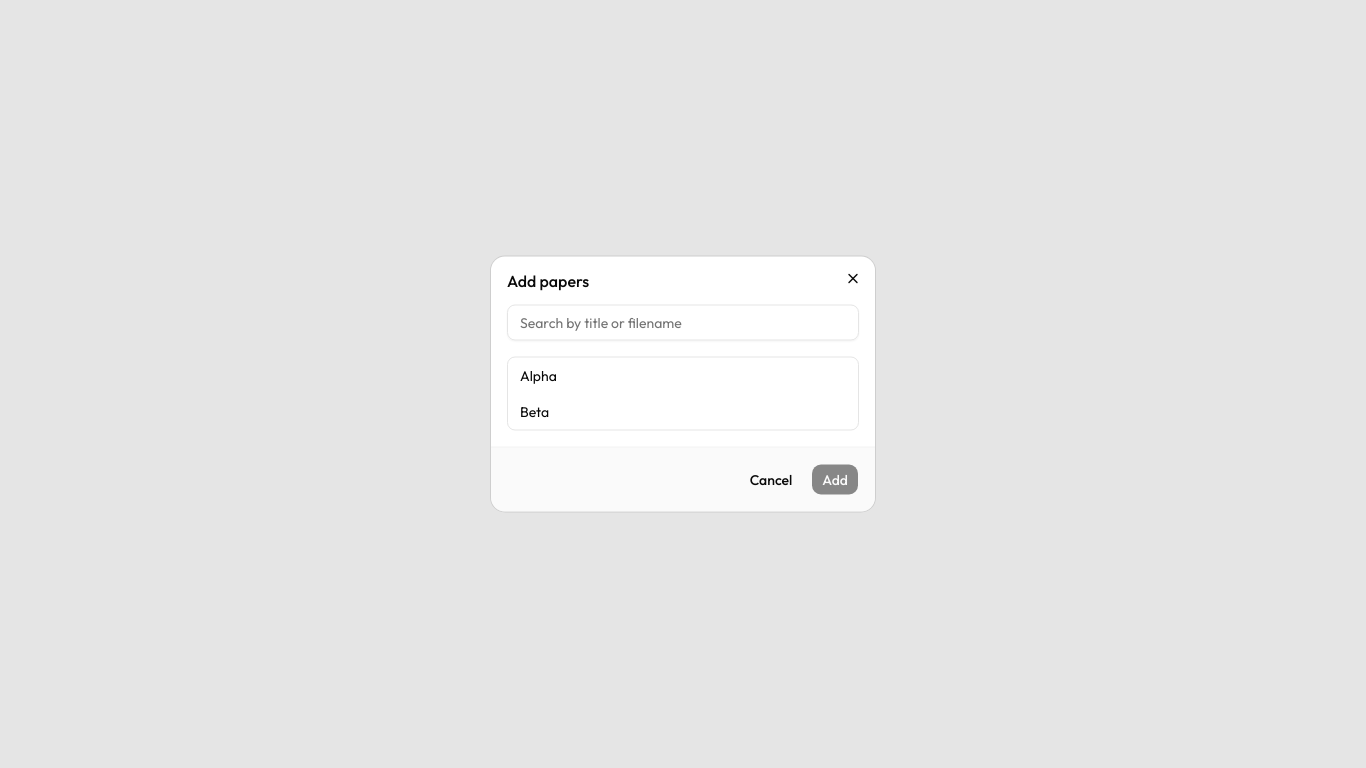
Test: PaperPickerDialog › filters by search input
Expected: the text "Alpha" is shown, [520, 366, 557, 386]
Type "bet" into the field named "search papers".
click(683, 322); type("bet")  # box [507, 304, 859, 340]
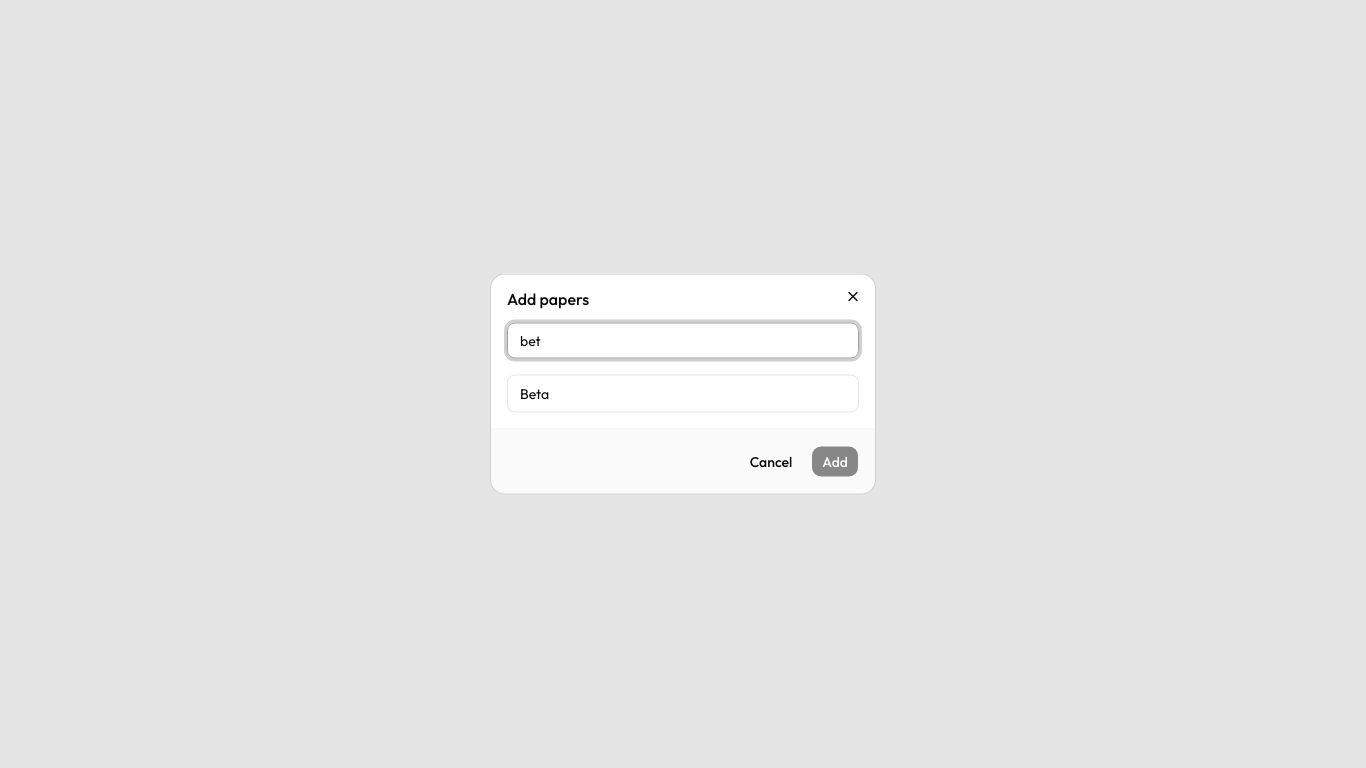
Expected: the text "Beta" is shown, [520, 384, 549, 404]
Result: the button "Alpha" is gone
